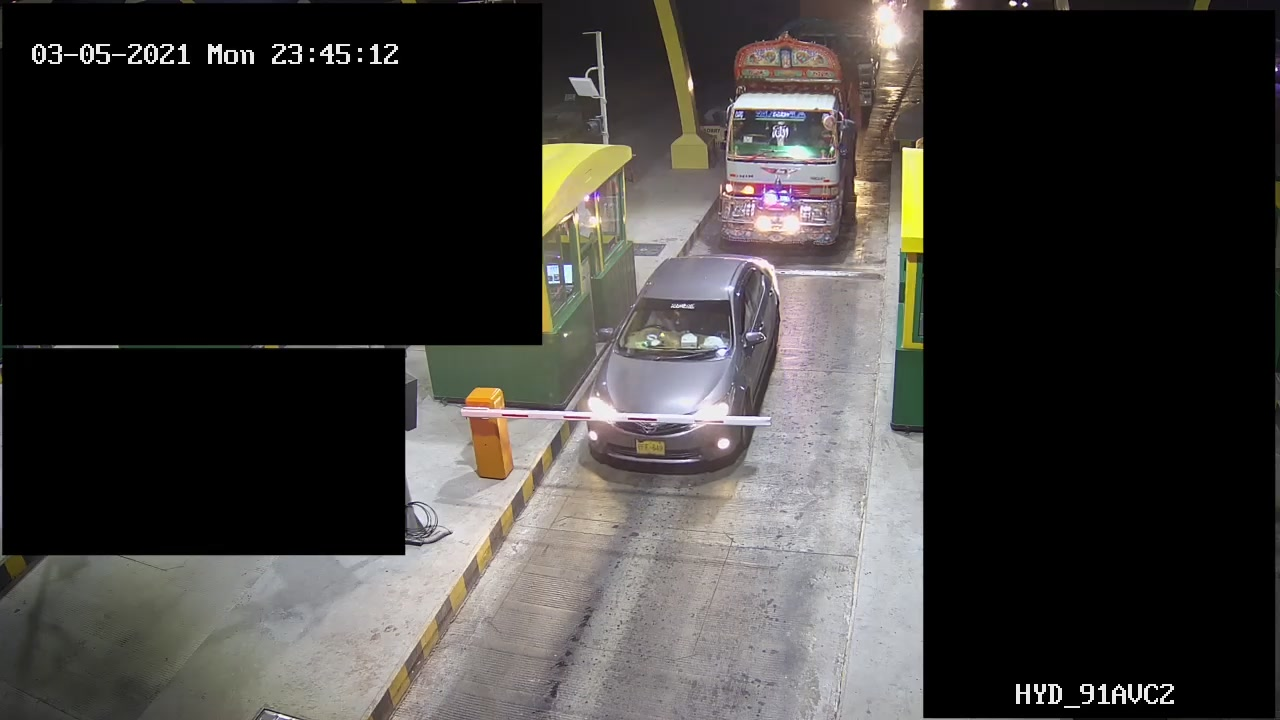F1: (589, 250, 793, 492)
